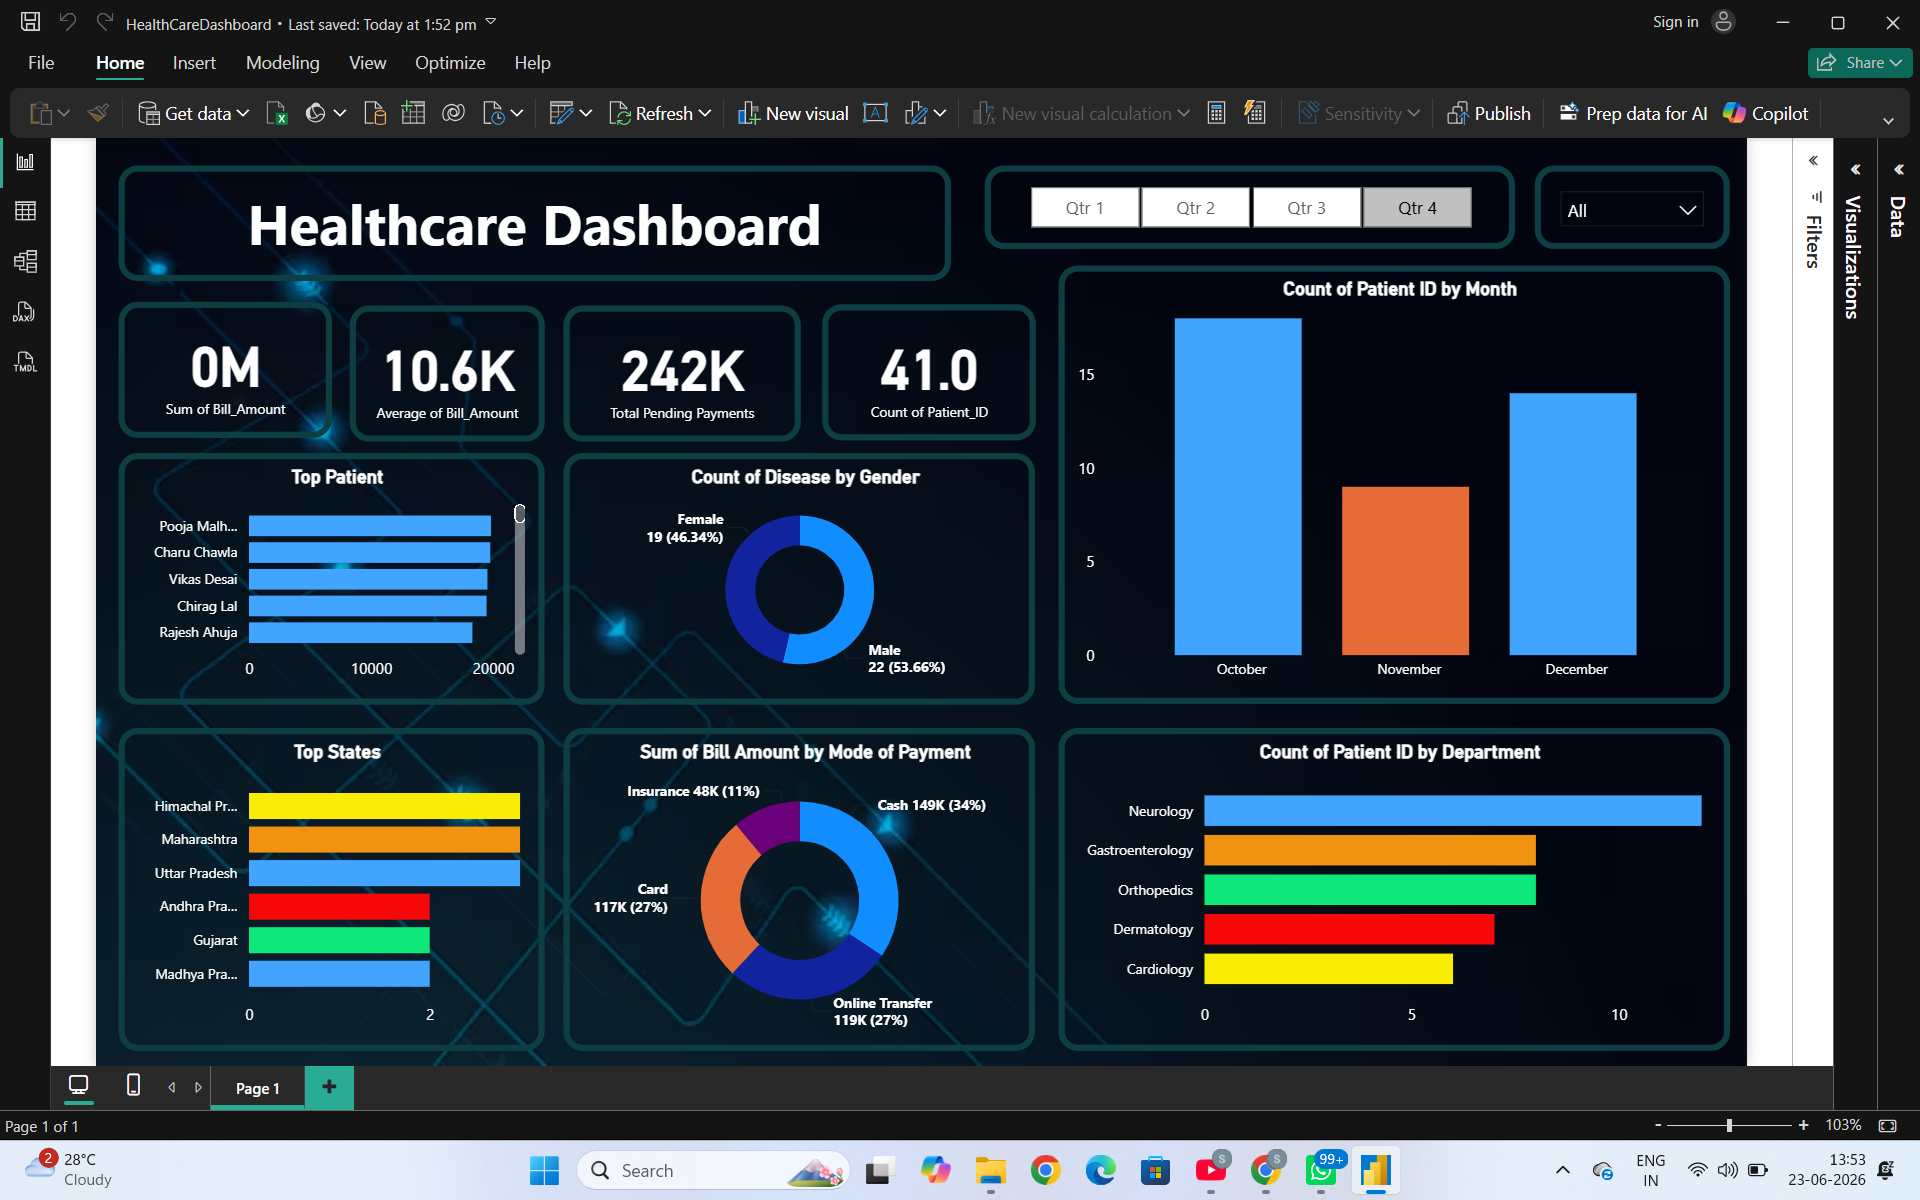

The page's visual inventory and layout, read from the dashboard file:
{"tool":"powerbi","page":{"name":"Page 1","canvas":[1280,720],"ordinal":0},"visuals":[{"type":"lineStackedColumnComboChart","title":"Count of Patient ID by Month","fields":{"Category":["Health dataset.Admission_Date.Variation.Date Hierarchy.Month"],"Y":["CountNonNull(Health dataset.Patient_ID)"]},"box":[746.6,99.2,520.5,339.9],"z":0},{"type":"donutChart","title":"Sum of Bill Amount by Mode of Payment","fields":{"Category":["Health dataset.Mode_of_Payment"],"Y":["Sum(Health dataset.Bill_Amount)"]},"box":[362.7,457.1,366,250.5],"z":1000},{"type":"textbox","box":[17.9,21.1,645.7,89.5],"z":2000},{"type":"card","fields":{"Values":["Sum(Health dataset.Bill_Amount)"]},"box":[17.9,126.9,165.9,105.7],"z":3000},{"type":"card","fields":{"Values":["Avg(Health dataset.Bill_Amount)"]},"box":[196.8,130.1,151.3,105.7],"z":4000},{"type":"card","fields":{"Values":["Health dataset.Total Pending Payments"]},"box":[362.7,130.1,183.8,105.7],"z":5000},{"type":"card","fields":{"Values":["CountNonNull(Health dataset.Patient_ID)"]},"box":[562.8,128.5,165.9,105.7],"z":6000},{"type":"barChart","title":"Count of Patient ID by Department","fields":{"Y":["CountNonNull(Health dataset.Patient_ID)"],"Category":["Health dataset.Department"]},"box":[746.6,457.1,520.5,250.5],"z":7000},{"type":"barChart","title":"Top States","fields":{"Category":["Health dataset.States"],"Y":["CountNonNull(Health dataset.Patient_ID)"]},"box":[17.9,457.1,330.2,250.5],"z":8000},{"type":"barChart","title":"Top Patient","fields":{"Category":["Health dataset.Patient_Name"],"Y":["Sum(Health dataset.Bill_Amount)"]},"box":[17.9,244,330.2,195.2],"z":9000},{"type":"donutChart","fields":{"Category":["Health dataset.Gender"],"Y":["CountNonNull(Health dataset.Disease )"]},"box":[362.7,244,366,195.2],"z":10000},{"type":"slicer","fields":{"Values":["Health dataset.Admission_Date.Variation.Date Hierarchy.Quarter"]},"box":[689.7,21.1,411.5,65.1],"z":11000},{"type":"slicer","fields":{"Values":["Health dataset.States"]},"box":[1115.8,21.1,151.3,65.1],"z":12000}]}

Visuals, with their boxes on the page's 1280x720 design canvas (x1, y1, x2, y2). These are canvas units, not pixel positions in the 1920x1200 screenshot, which may show the page scaled, cropped or inside an application window:
"Count of Patient ID by Month" lineStackedColumnComboChart: bbox=(747, 99, 1267, 439)
"Sum of Bill Amount by Mode of Payment" donutChart: bbox=(363, 457, 729, 708)
textbox: bbox=(18, 21, 664, 111)
card - Sum(Health dataset.Bill_Amount): bbox=(18, 127, 184, 233)
card - Avg(Health dataset.Bill_Amount): bbox=(197, 130, 348, 236)
card - Health dataset.Total Pending Payments: bbox=(363, 130, 546, 236)
card - CountNonNull(Health dataset.Patient_ID): bbox=(563, 128, 729, 234)
"Count of Patient ID by Department" barChart: bbox=(747, 457, 1267, 708)
"Top States" barChart: bbox=(18, 457, 348, 708)
"Top Patient" barChart: bbox=(18, 244, 348, 439)
donutChart - Health dataset.Gender x CountNonNull(Health dataset.Disease ): bbox=(363, 244, 729, 439)
slicer - Health dataset.Admission_Date.Variation.Date Hierarchy.Quarter: bbox=(690, 21, 1101, 86)
slicer - Health dataset.States: bbox=(1116, 21, 1267, 86)
